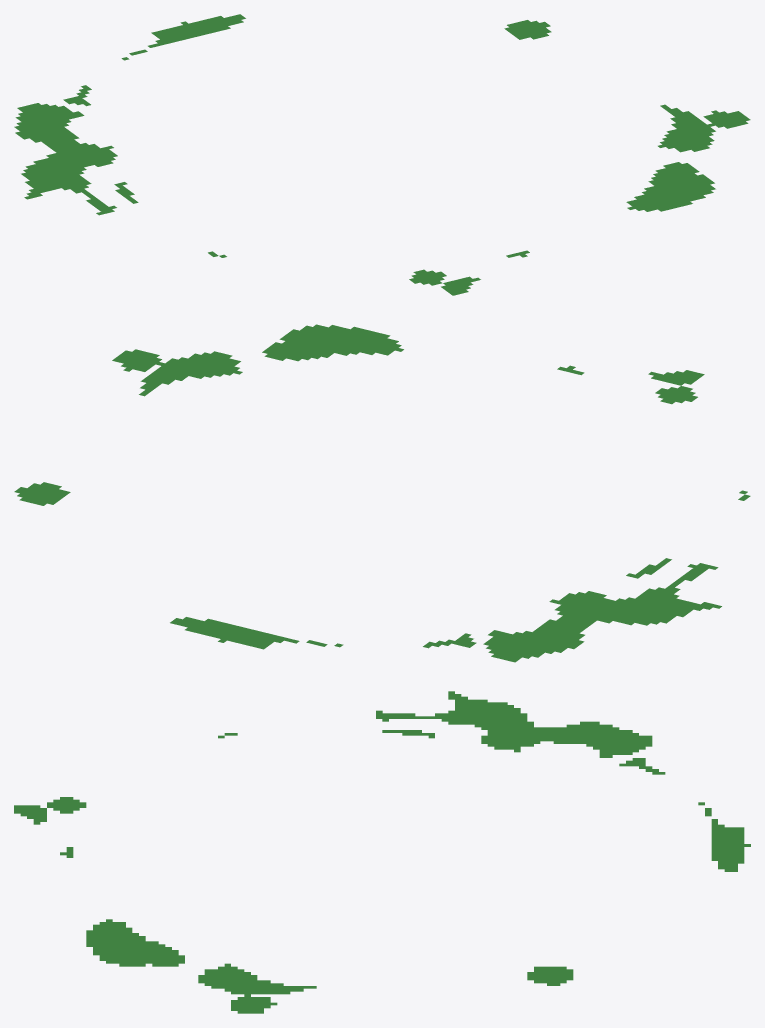
File: Isl-atoll5-TreesArea.fbx
The picture shows the model from 3 angles, top to bottom: view 1: azimuth 30°, elevation 25°; view 2: azimuth 150°, elevation 25°; view 3: azimuth 270°, elevation 25°; orthographic projection. The views are drawn at different scales.
Visible parts, largest first — view 1: Isl-atoll5-TreesArea; view 2: Isl-atoll5-TreesArea; view 3: Isl-atoll5-TreesArea.
Boxes of the visible parts, box(x1,y1,x2,y2) form: Isl-atoll5-TreesArea: box(14, 14, 750, 295); Isl-atoll5-TreesArea: box(14, 324, 750, 662); Isl-atoll5-TreesArea: box(14, 691, 750, 1013).
Size of the model in its own units: 116 by 0 by 112.
